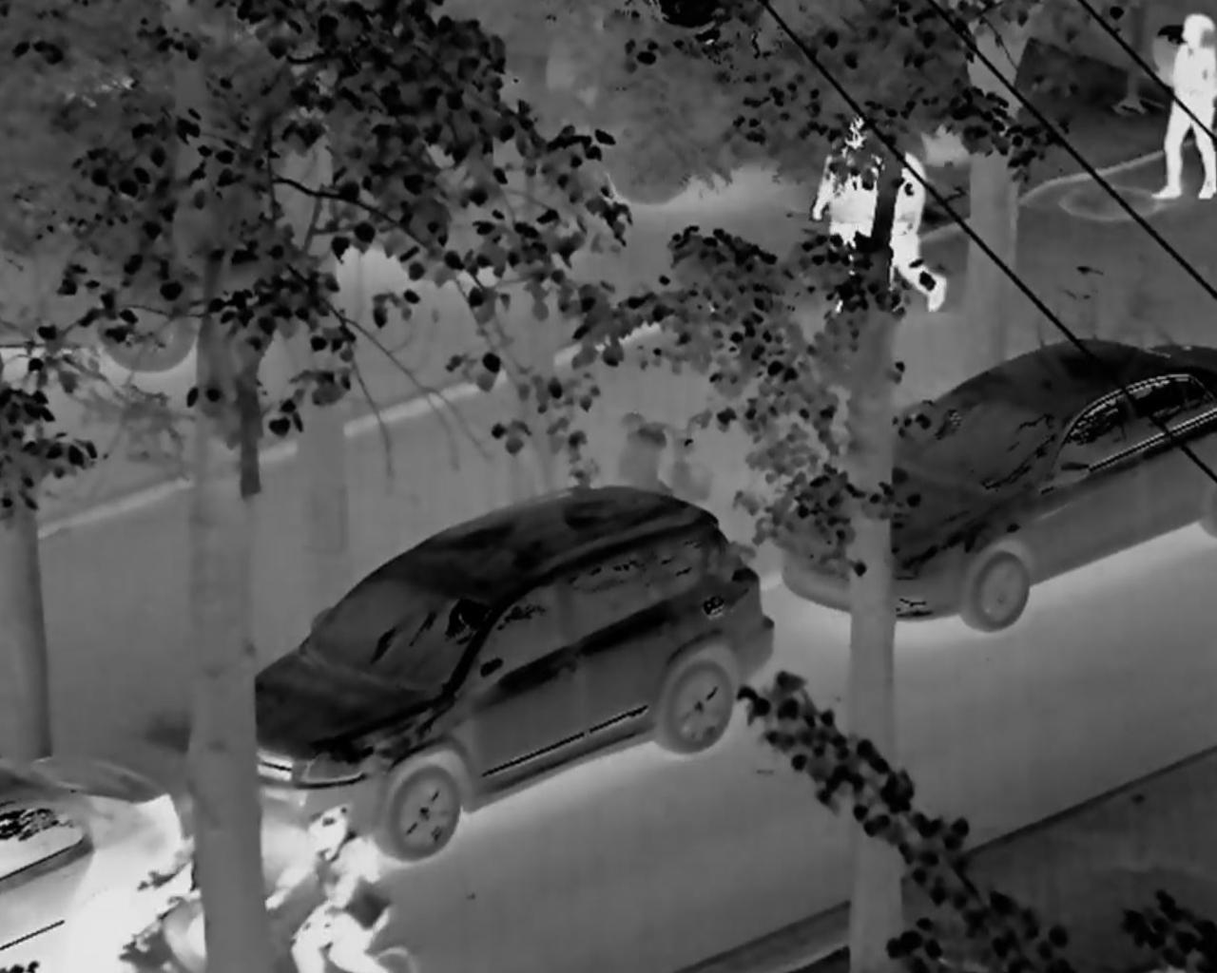person: (260, 810, 454, 973), (882, 133, 976, 316), (801, 109, 872, 311), (1161, 12, 1217, 212)
